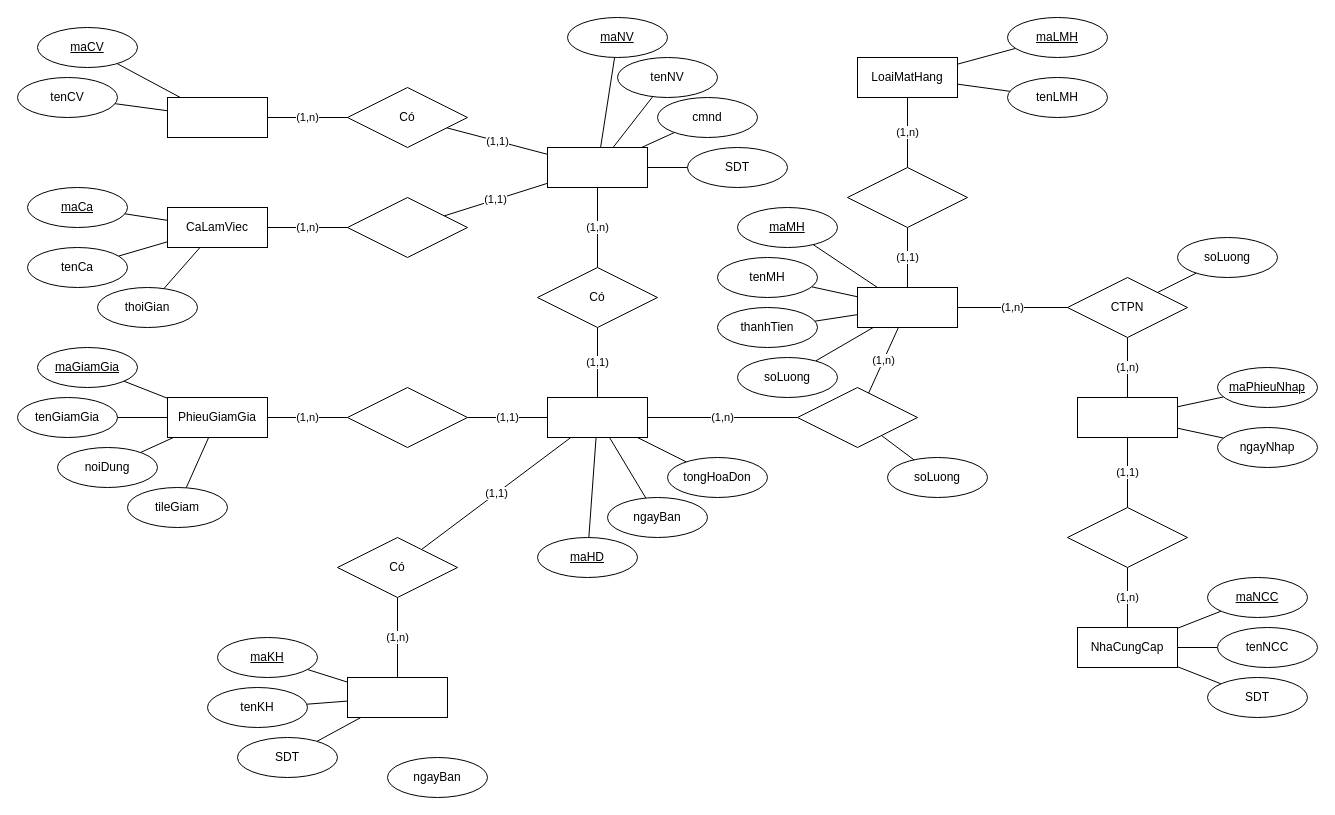
Some shapes in this 1335 by 815 pixel diagram are drawn without their labels. Each missing label, with the centre of its shape:
ChucVu: [217,117]
CTHD: [857,417]
HoaDon: [597,417]
KhachHang: [397,697]
MatHang: [907,307]
NhanVien: [597,167]
PhieuNhapHang: [1127,417]
Sử dụng: [407,417]
Tham gia: [407,227]
Thuộc: [907,197]
Thuộc về: [1127,537]
